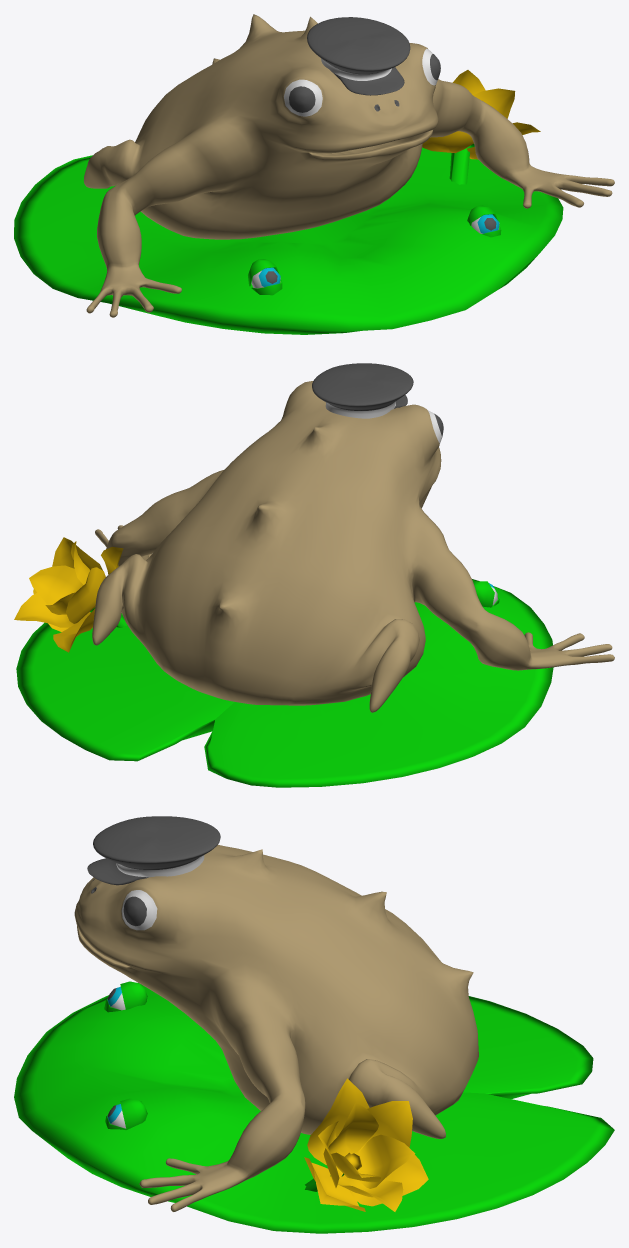
The model's file is Rocky 2.0.fbx.
The picture shows the model from 3 angles, top to bottom: view 1: azimuth 30°, elevation 25°; view 2: azimuth 150°, elevation 25°; view 3: azimuth 270°, elevation 25°; orthographic projection. The views are drawn at different scales.
Visible parts, largest first — view 1: polySurface33; view 2: polySurface33; view 3: polySurface33.
Part boxes in pixels (x1,y1,x2,y2): polySurface33: [14, 14, 614, 334]; polySurface33: [14, 363, 614, 787]; polySurface33: [14, 816, 614, 1233].
Bounding box in the file's own units: 16.2 × 7.56 × 14.57.
